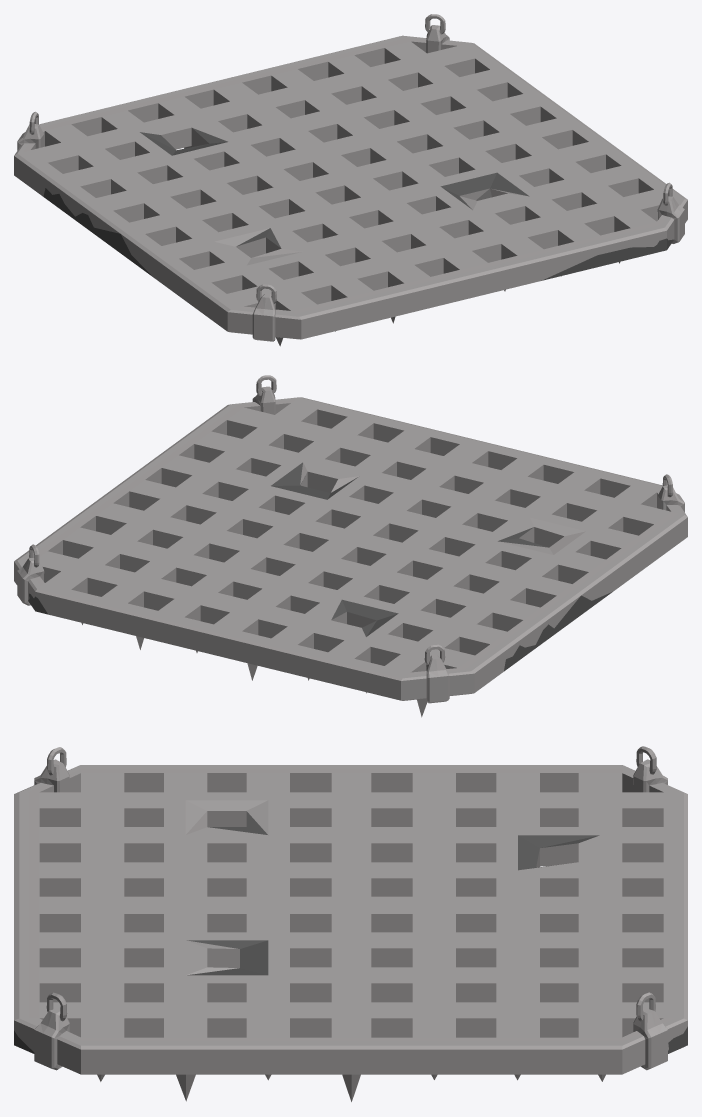
File: LGERoofMetalSpikeTrap.fbx
The picture shows the model from 3 angles, top to bottom: view 1: azimuth 30°, elevation 25°; view 2: azimuth 150°, elevation 25°; view 3: azimuth 270°, elevation 25°; orthographic projection. The views are drawn at different scales.
Parts seen in each view (by area): view 1: LGERoofMetalSpikeTrap; view 2: LGERoofMetalSpikeTrap; view 3: LGERoofMetalSpikeTrap.
Part boxes in pixels (x1,y1,x2,y2): LGERoofMetalSpikeTrap: [14, 14, 687, 346]; LGERoofMetalSpikeTrap: [14, 375, 687, 717]; LGERoofMetalSpikeTrap: [14, 746, 687, 1101].
Bounding box in the file's own units: 325 × 74.96 × 325.
